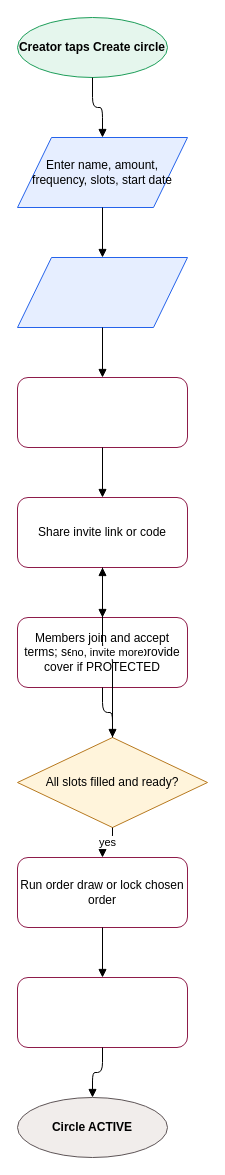
Some shapes in this 225 by 1175 pixel diagram are drawn without their labels. The box of each missing label's shape, as (x1, y1, x2, y2) in pixels:
Activate account; schedule rounds: (16, 976, 188, 1048)
Choose protection mode and payout order method: (16, 256, 188, 328)
Create tenant; provision dedicated account (RESTRICTED): (16, 376, 188, 448)
